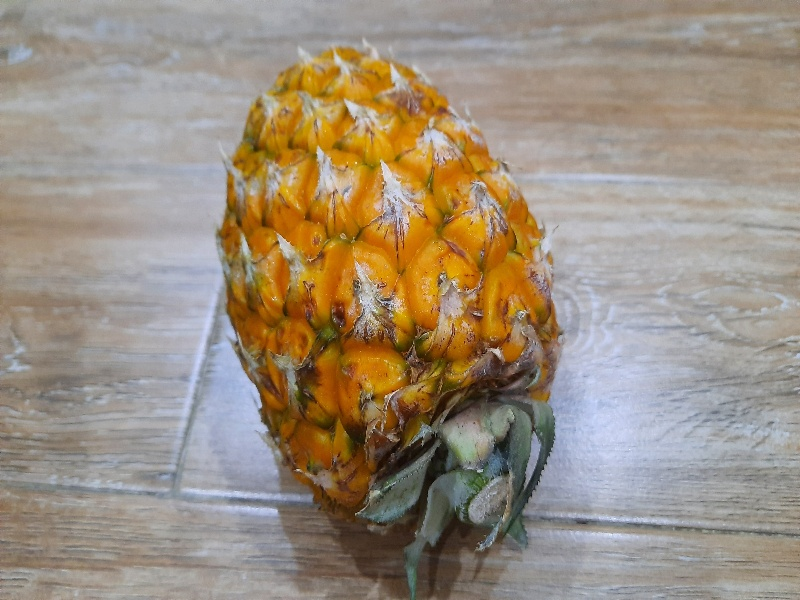fruit: (210, 41, 570, 562)
